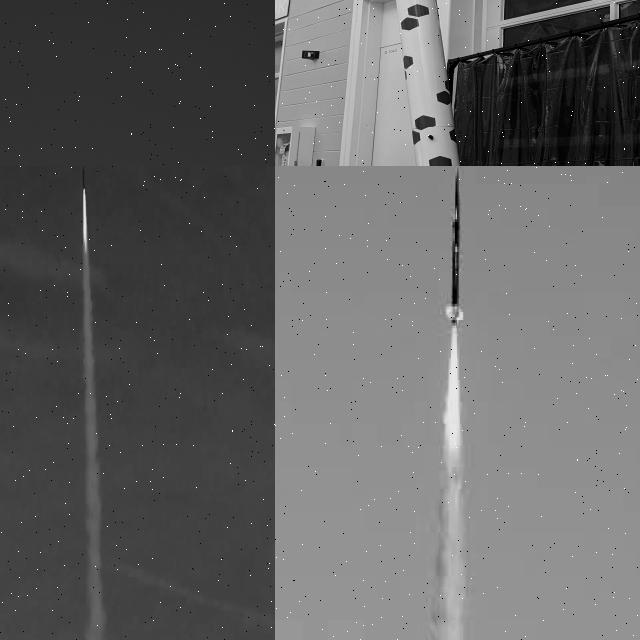Rocket: (395, 0, 461, 166), (444, 166, 465, 331), (82, 166, 85, 191)
